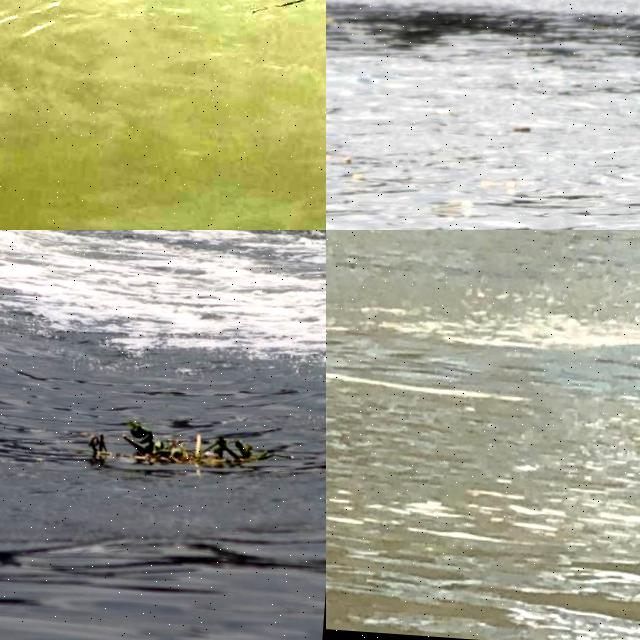water-hyacinth: (88, 411, 278, 484)
